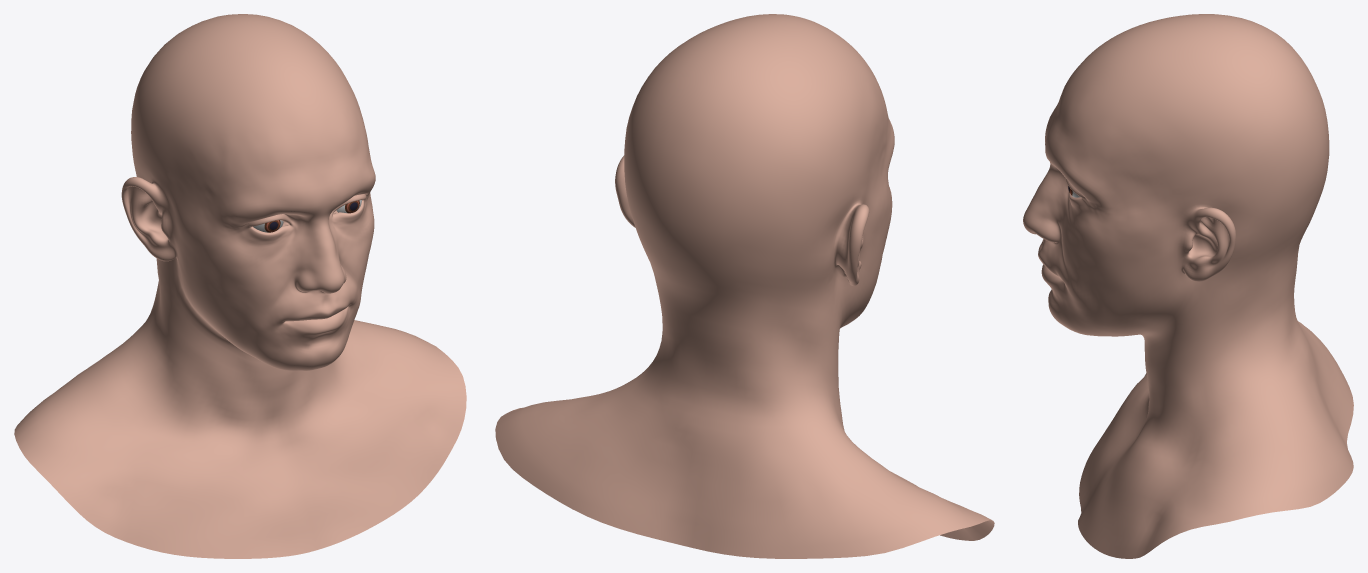
File: Metahuman_Head.fbx
3 views of the same model, side by side, from view 1: azimuth 30°, elevation 25°; view 2: azimuth 150°, elevation 25°; view 3: azimuth 270°, elevation 25° (orthographic). The views are drawn at different scales.
Visible parts, largest first — view 1: head_lod0_ORIGINAL; view 2: head_lod0_ORIGINAL; view 3: head_lod0_ORIGINAL.
Part boxes in pixels (<box>): head_lod0_ORIGINAL: <box>14,14,466,558</box>; head_lod0_ORIGINAL: <box>495,14,994,558</box>; head_lod0_ORIGINAL: <box>1023,14,1353,558</box>.
Size of the model in its own units: 35.82 by 39.08 by 23.96.
